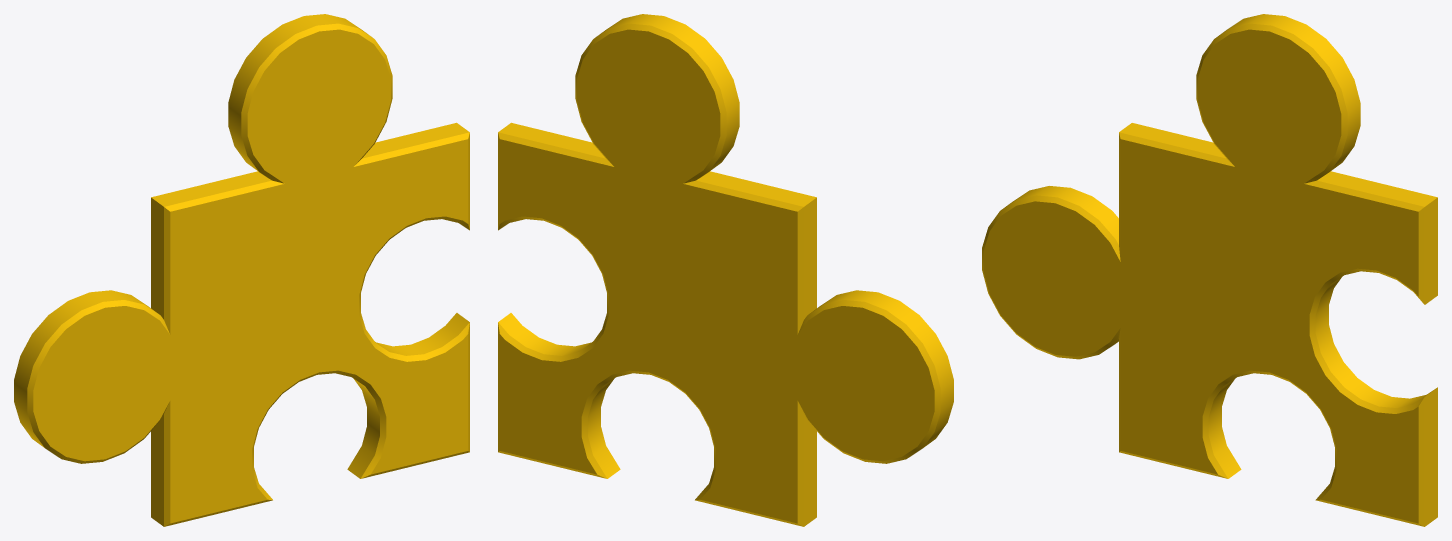
Rendered from puzzle.glb.
3 renders of one model, left to right at view 1: azimuth 30°, elevation 25°; view 2: azimuth 150°, elevation 25°; view 3: azimuth 330°, elevation 25°, orthographic.
Parts seen in each view (by area): view 1: Cube; view 2: Cube; view 3: Cube.
Boxes of the visible parts, x1,y1,x2,y2 form: Cube: (14,14,469,526); Cube: (498,14,953,526); Cube: (982,14,1437,526).
Size of the model in its own units: 2.89 by 2.9 by 0.2.
